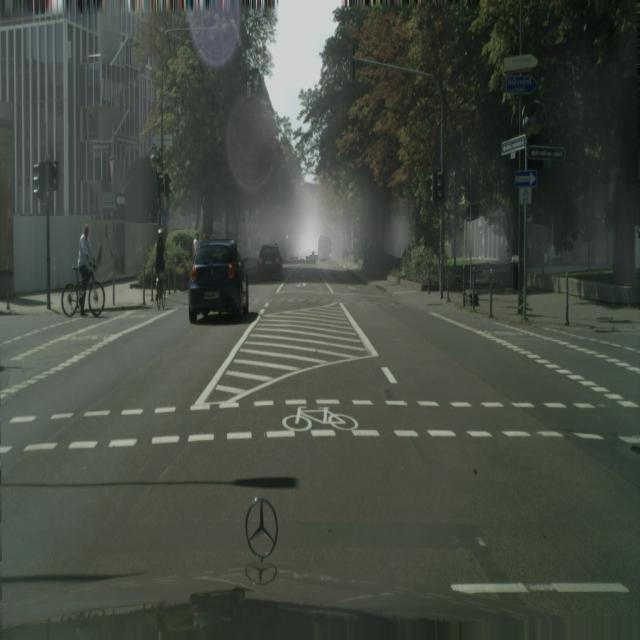car: (61, 223, 104, 318), (153, 225, 169, 309)
rider: (315, 227, 334, 269)
truck: (188, 238, 249, 323), (257, 242, 283, 282)
